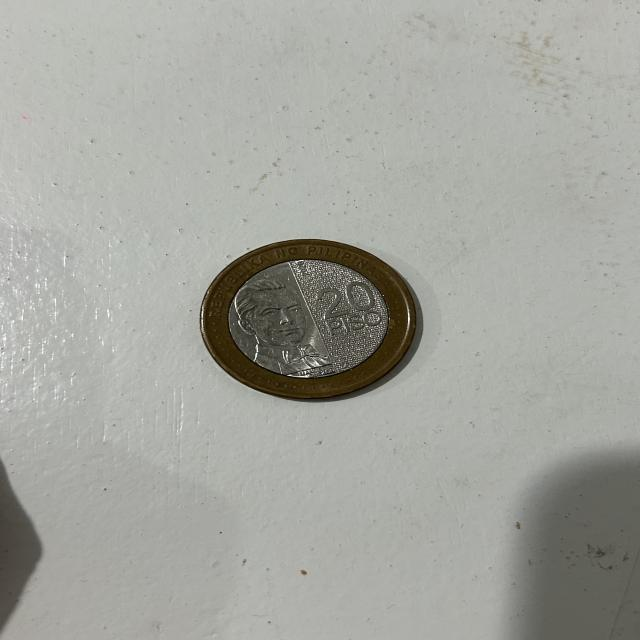20_New_Front: (314, 279, 391, 343)
